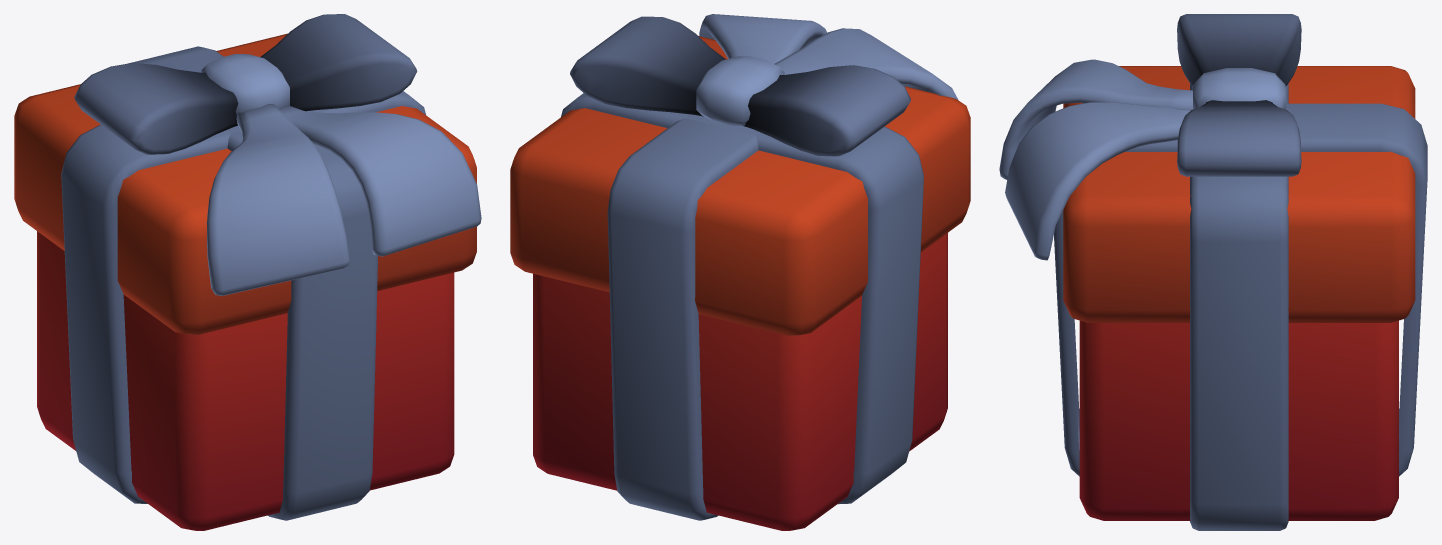
The model's file is Present_box.fbx.
3 renders of one model, left to right at view 1: azimuth 30°, elevation 25°; view 2: azimuth 150°, elevation 25°; view 3: azimuth 270°, elevation 25°, orthographic.
Visible parts, largest first — view 1: Present_box; view 2: Present_box; view 3: Present_box.
Part boxes in pixels (left/top/right/bottom): Present_box: left=14, top=14, right=481, bottom=530; Present_box: left=510, top=14, right=970, bottom=530; Present_box: left=999, top=14, right=1427, bottom=530.
Bounding box in the file's own units: 77.65 × 91.53 × 88.3.
